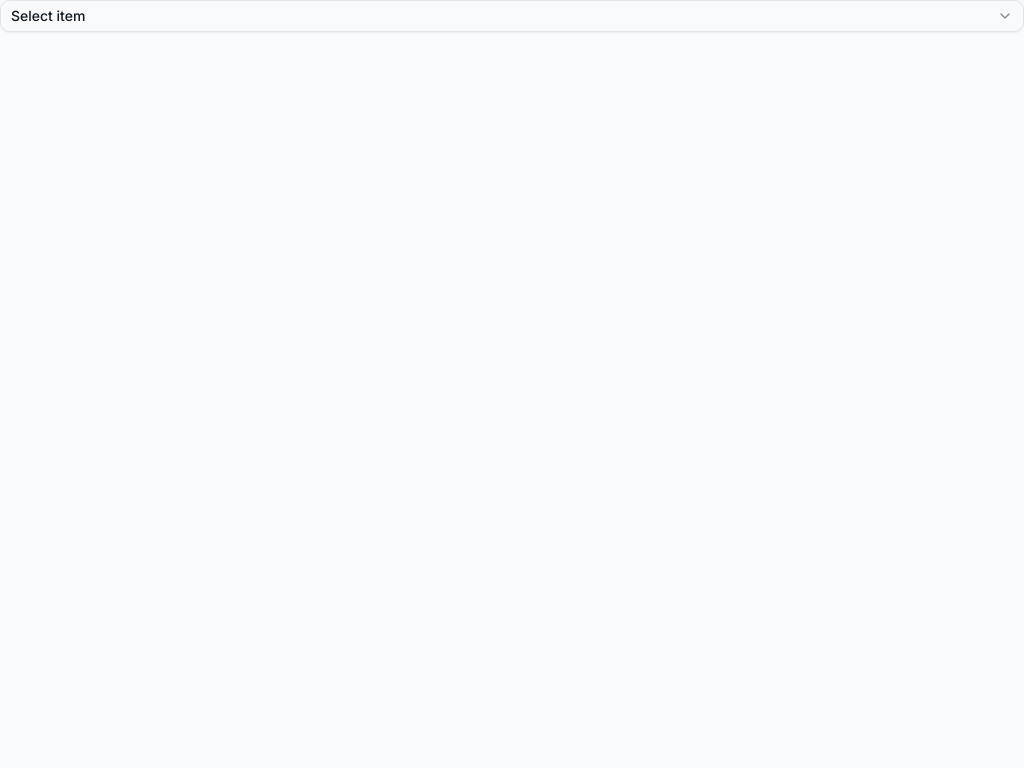
Test: SearchableSelect Component › calls onValueChange when item is selected
Later steps or results of the test are not shown.
Click the dropdown at coordinates (48, 16), box [0, 0, 1023, 32]
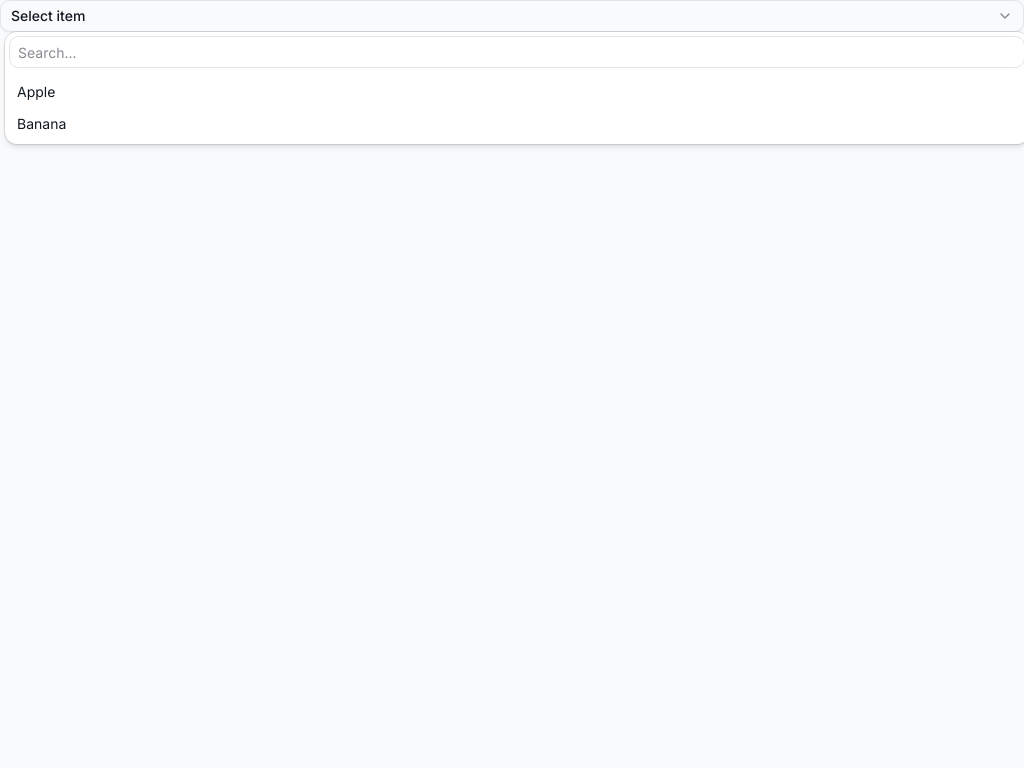
Check: the option "Apple" is shown, box [17, 83, 55, 100]
